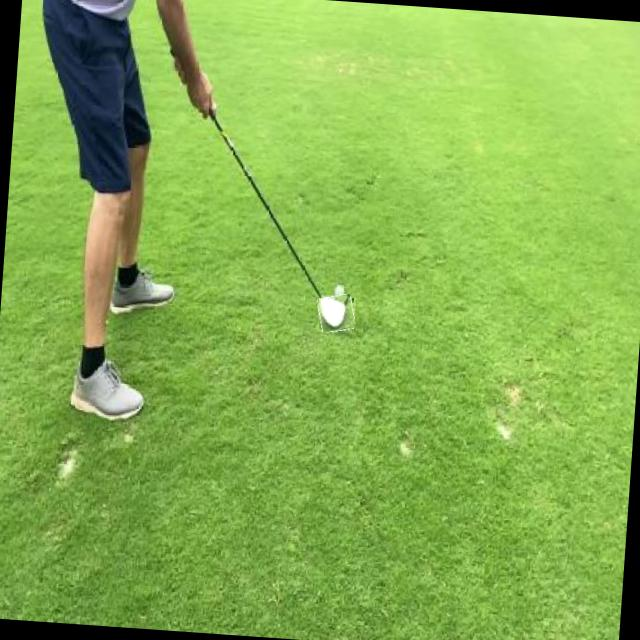club head: (316, 294, 356, 333)
